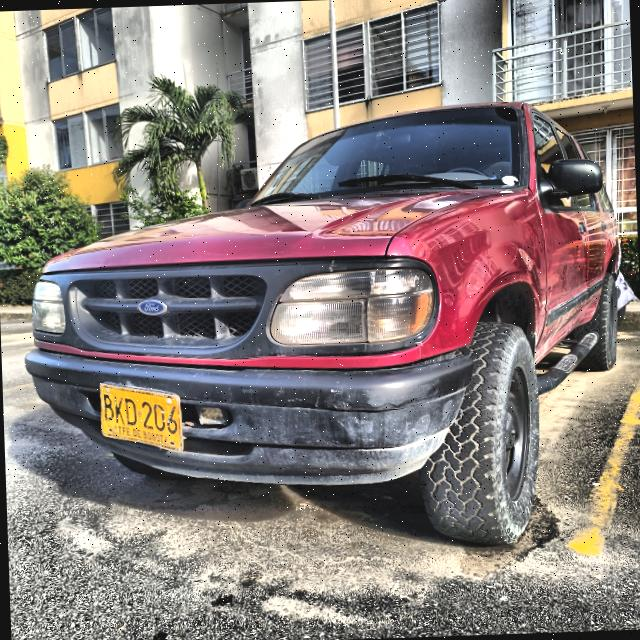0: (152, 402, 166, 433)
2: (140, 399, 154, 430)
6: (166, 404, 178, 435)
B: (103, 393, 115, 422)
D: (123, 396, 138, 426)
K: (113, 395, 126, 425)
